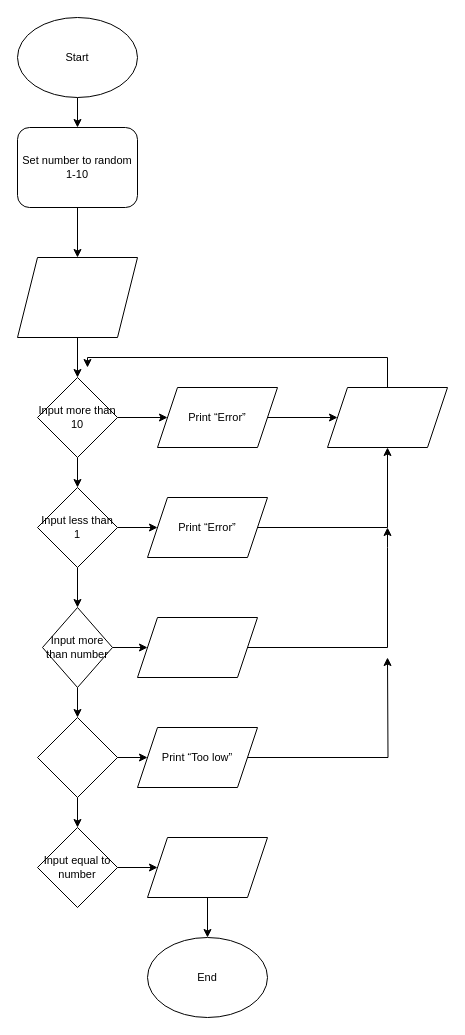
This 465x1035 diagram has some shape labels left out. The centre of each missing label's shape, as x and y in pixels:
"Input guess" goes at pixel 387 417.
"Input less than number" goes at pixel 77 757.
"Input number" goes at pixel 77 297.
"Print “correct”" goes at pixel 207 867.
"Print “Too high”" goes at pixel 197 647.
